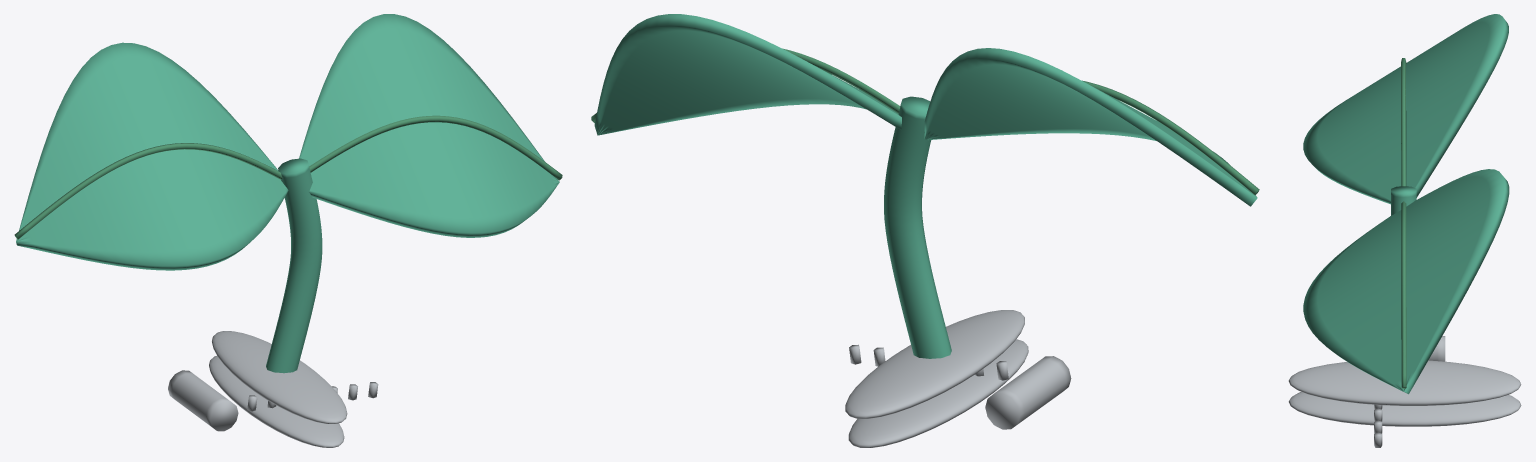
Rendered from Feminine-box-braids-pashmina249-sprout.glb.
3 renders of one model, left to right at view 1: azimuth 30°, elevation 25°; view 2: azimuth 150°, elevation 25°; view 3: azimuth 270°, elevation 25°, orthographic. The views are drawn at different scales.
Parts seen in each view (by area): view 1: 226 extra / Accessory / mint226, 226 extra / Sprout / clip silver235, 226 extra / Sprout / leaf vein235; view 2: 226 extra / Accessory / mint226, 226 extra / Sprout / clip silver235, 226 extra / Sprout / leaf vein235; view 3: 226 extra / Accessory / mint226, 226 extra / Sprout / clip silver235, 226 extra / Sprout / leaf vein235.
Boxes of the visible parts, x1,y1,x2,y2 form: 226 extra / Accessory / mint226: (16, 14, 559, 373); 226 extra / Sprout / clip silver235: (168, 331, 378, 447); 226 extra / Sprout / leaf vein235: (14, 115, 562, 239); 226 extra / Accessory / mint226: (594, 14, 1257, 358); 226 extra / Sprout / clip silver235: (845, 310, 1071, 447); 226 extra / Sprout / leaf vein235: (591, 48, 1259, 195); 226 extra / Accessory / mint226: (1303, 14, 1509, 394); 226 extra / Sprout / clip silver235: (1288, 336, 1521, 447); 226 extra / Sprout / leaf vein235: (1401, 58, 1406, 388).
Size of the model in its own units: 0.2694 by 0.1679 by 0.104.
